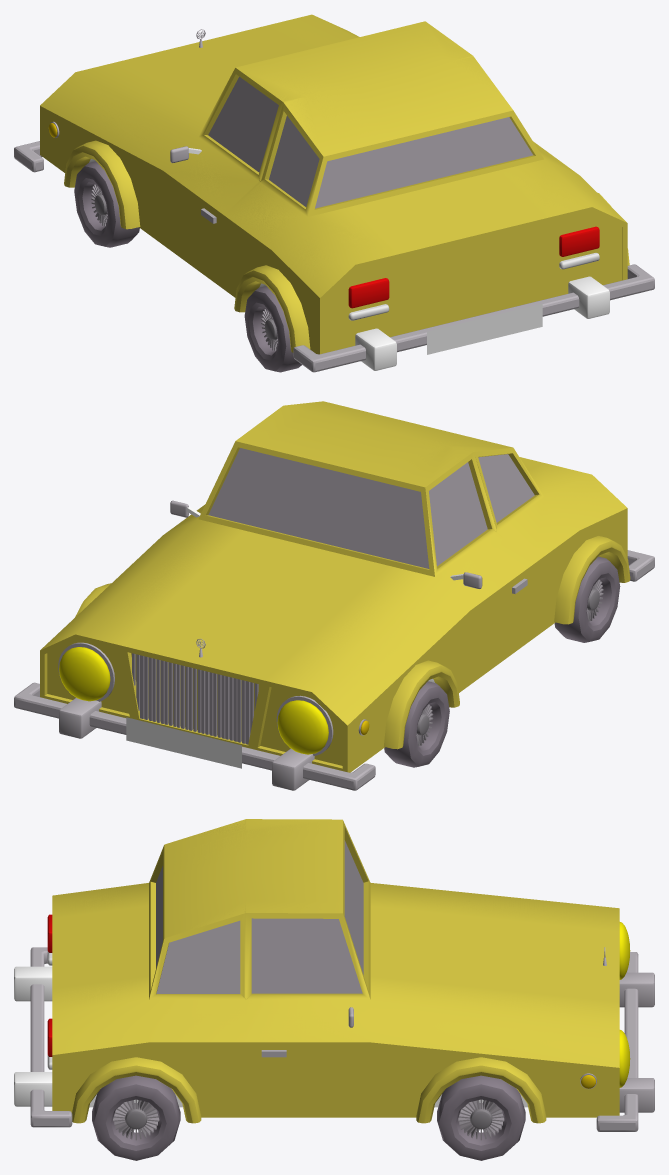
3 views of the same model, one above another, from view 1: azimuth 30°, elevation 25°; view 2: azimuth 150°, elevation 25°; view 3: azimuth 270°, elevation 25° (orthographic).
Parts seen in each view (by area): view 1: Low_Poly_Car, Rear_Bumper, Wheels, Front_Bumper; view 2: Low_Poly_Car, Front_Bumper, Wheels, Side_Mirrors, Rear_Bumper; view 3: Low_Poly_Car, Wheels, Rear_Bumper, Front_Bumper.
Part boxes in pixels (x1,y1,x2,y2): Low_Poly_Car: (40, 14, 627, 354); Rear_Bumper: (293, 226, 654, 372); Wheels: (64, 140, 629, 372); Front_Bumper: (14, 141, 43, 172); Low_Poly_Car: (40, 401, 627, 772); Front_Bumper: (14, 642, 375, 790); Wheels: (75, 536, 630, 767); Side_Mirrors: (170, 500, 482, 588); Rear_Bumper: (627, 550, 654, 581); Low_Poly_Car: (52, 819, 619, 1117); Wheels: (72, 1057, 546, 1160); Rear_Bumper: (14, 914, 72, 1127); Front_Bumper: (596, 922, 654, 1131).
Size of the model in its own units: 290 by 171 by 463.
